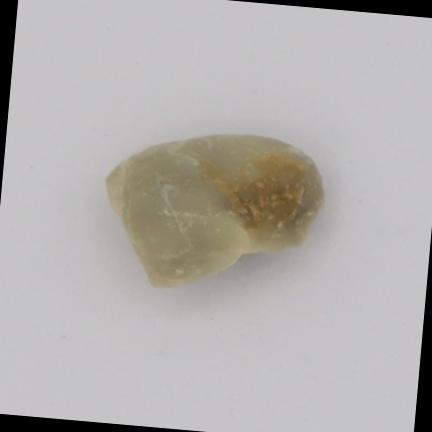cut: (106, 135, 322, 286)
